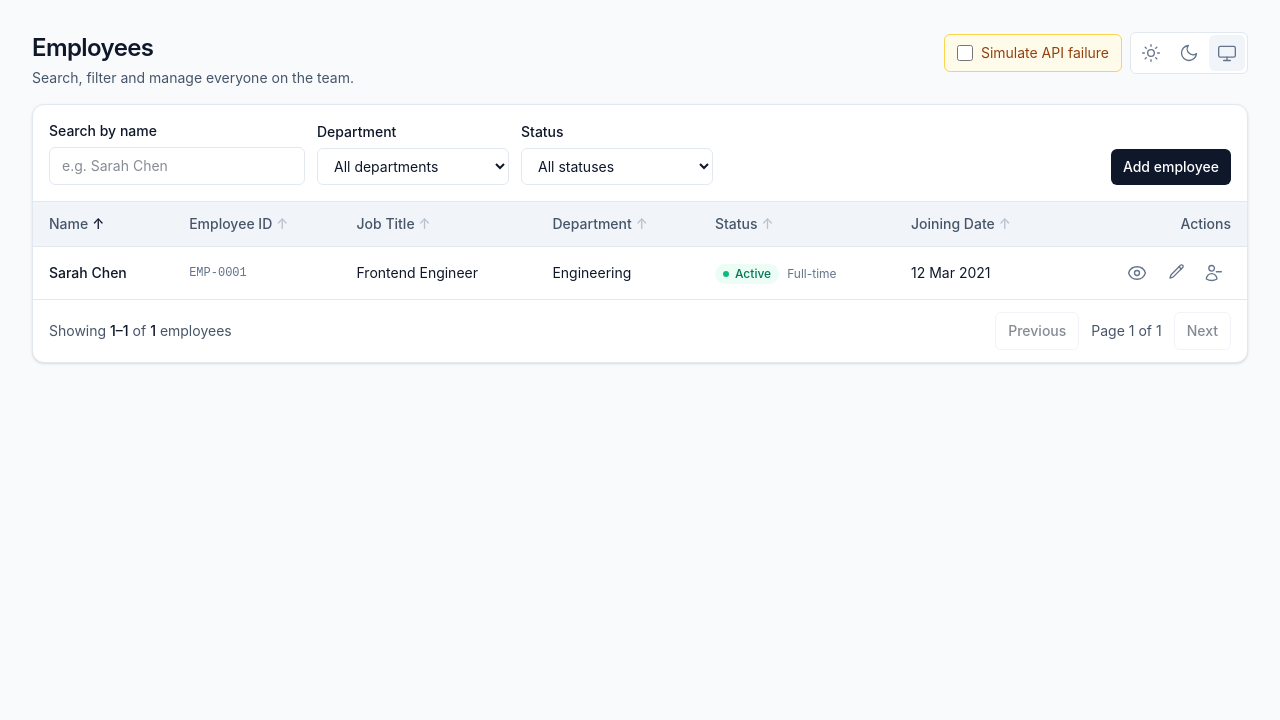
deactivating an employee › deactivates once confirmed and reports it back
expect the table is shown: met, box [33,202,1247,299]
Click the button named "Deactivate Sarah Chen".
click(1213, 273)  # box [1195,255,1231,291]
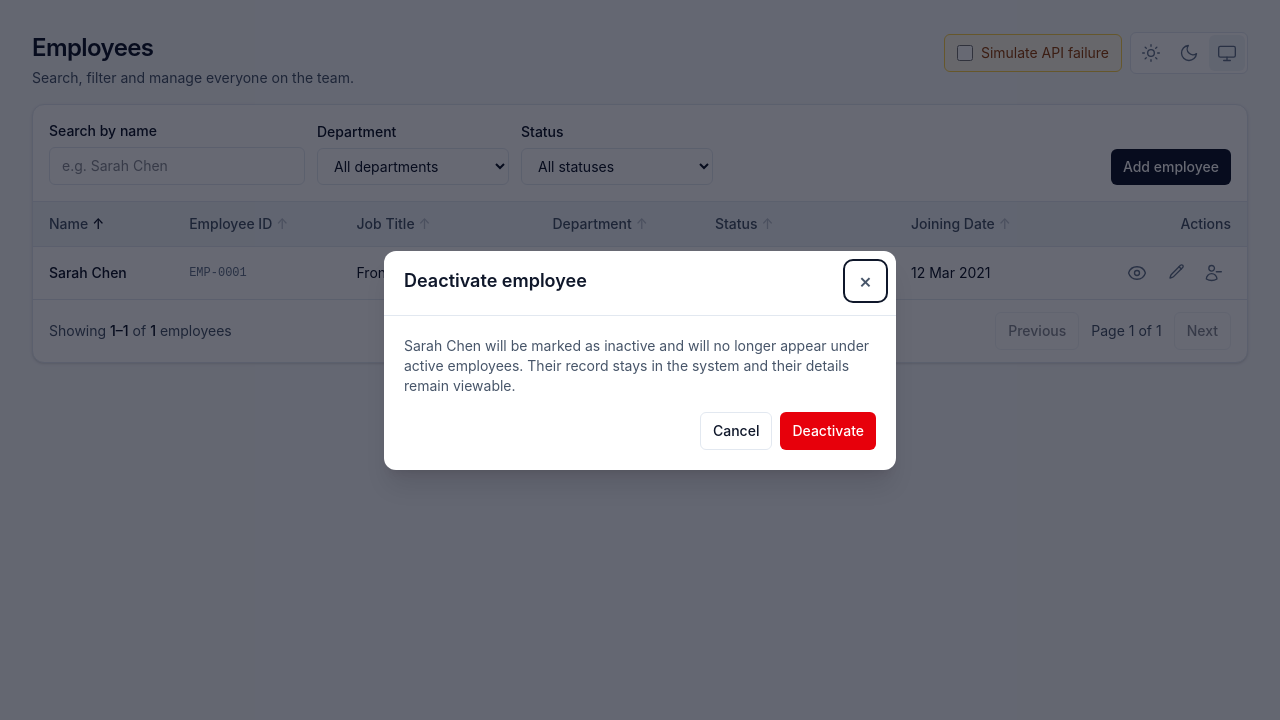
Click the button "Deactivate".
click(828, 430)  # box [780,412,876,450]
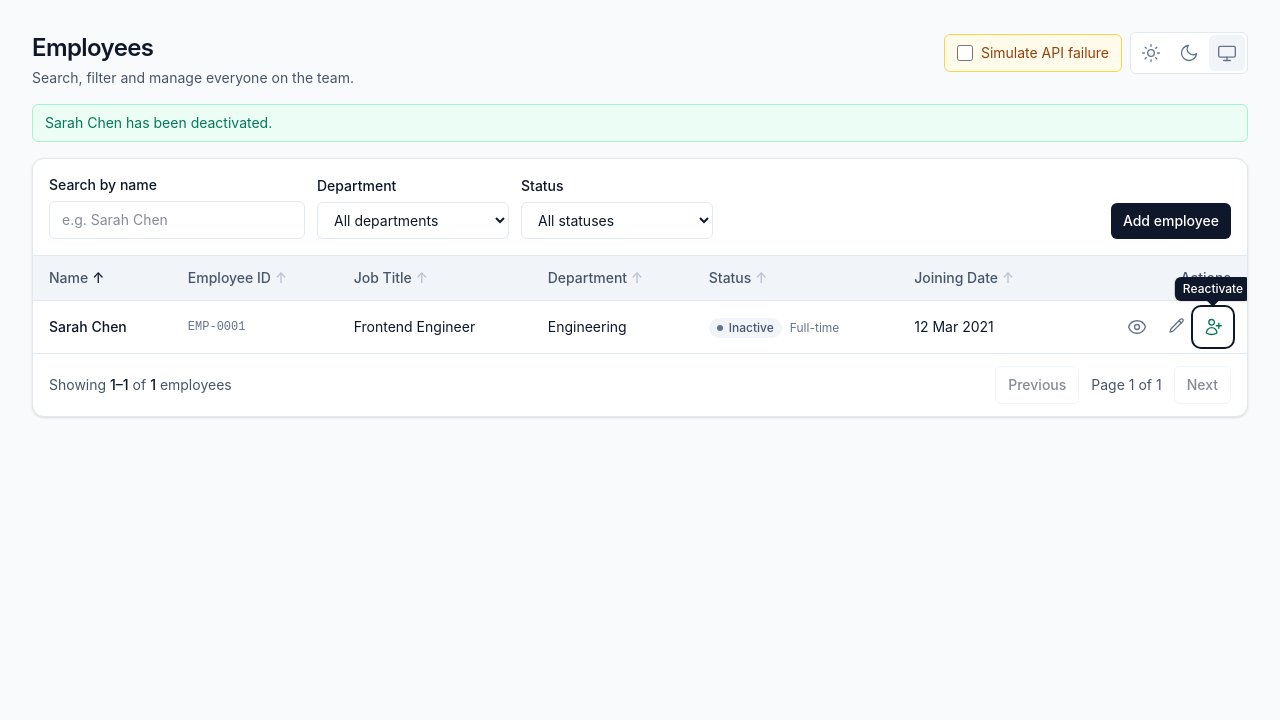
expect the text "Inactive" is shown: met, box [709,318,782,338]
expect the message reads "Sarah Chen has been deactivated.": met, box [45,114,272,131]
